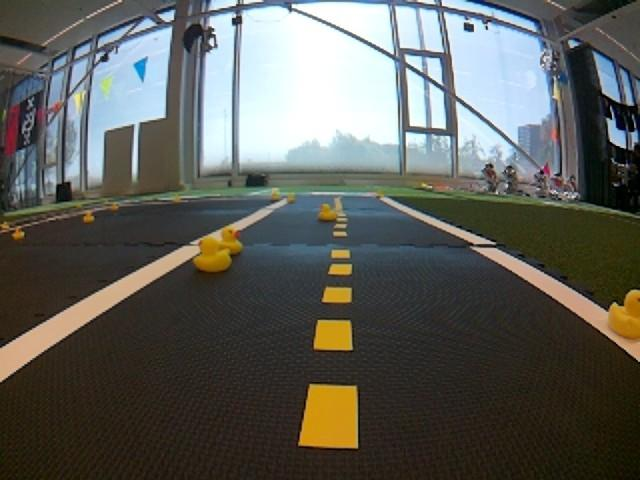Duckies: (608, 289, 640, 339), (192, 234, 233, 272), (215, 228, 243, 254), (318, 204, 337, 221), (12, 226, 25, 239), (84, 211, 95, 223), (270, 188, 280, 199), (286, 193, 296, 202), (0, 220, 10, 229), (173, 195, 183, 202), (110, 204, 120, 210)
